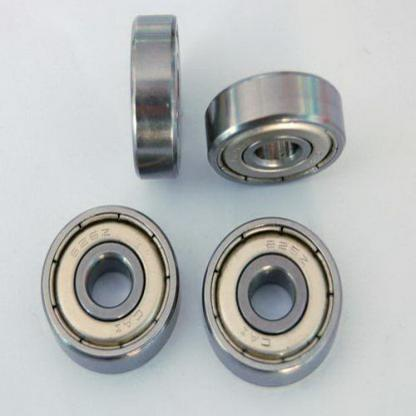FOD: (197, 213, 348, 390), (38, 201, 184, 379), (203, 69, 349, 189), (125, 11, 185, 185)
